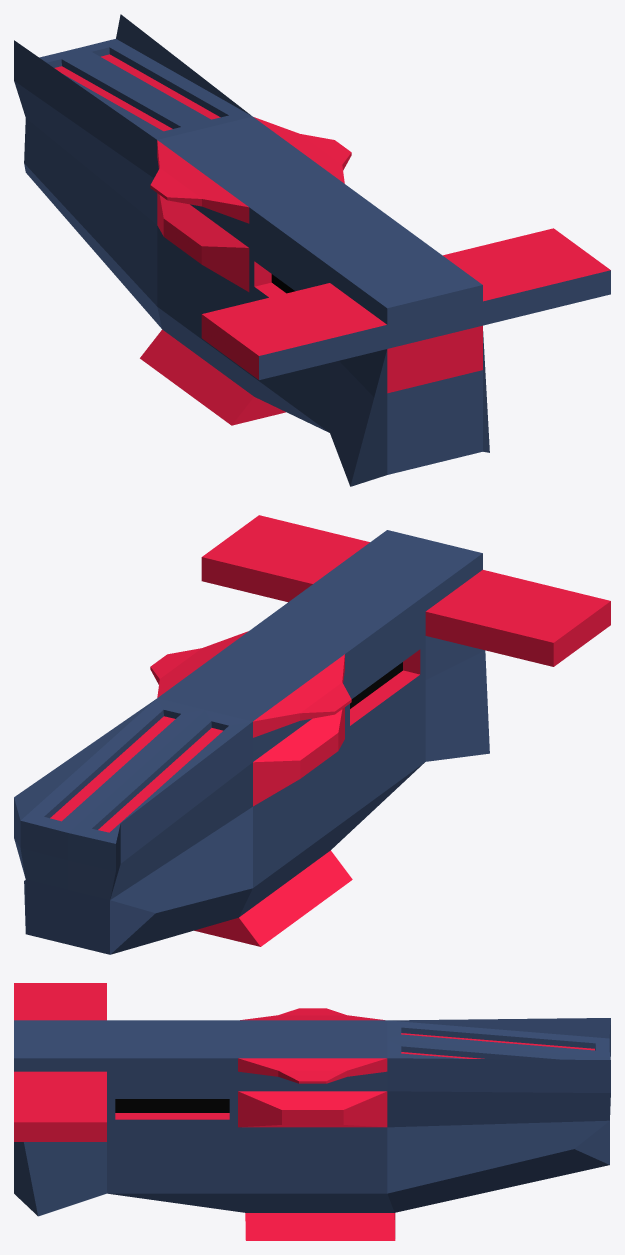
File: destroyer.glb
3 renders of one model, top to bottom at view 1: azimuth 30°, elevation 25°; view 2: azimuth 150°, elevation 25°; view 3: azimuth 270°, elevation 25°, orthographic. The views are drawn at different scales.
Parts seen in each view (by area): view 1: Cube; view 2: Cube; view 3: Cube.
Boxes of the visible parts, x1,y1,x2,y2 form: Cube: (14, 14, 610, 486); Cube: (14, 515, 610, 954); Cube: (14, 983, 610, 1240).
Size of the model in its own units: 22.08 by 13.15 by 39.97.
1 material, 1 textured.
